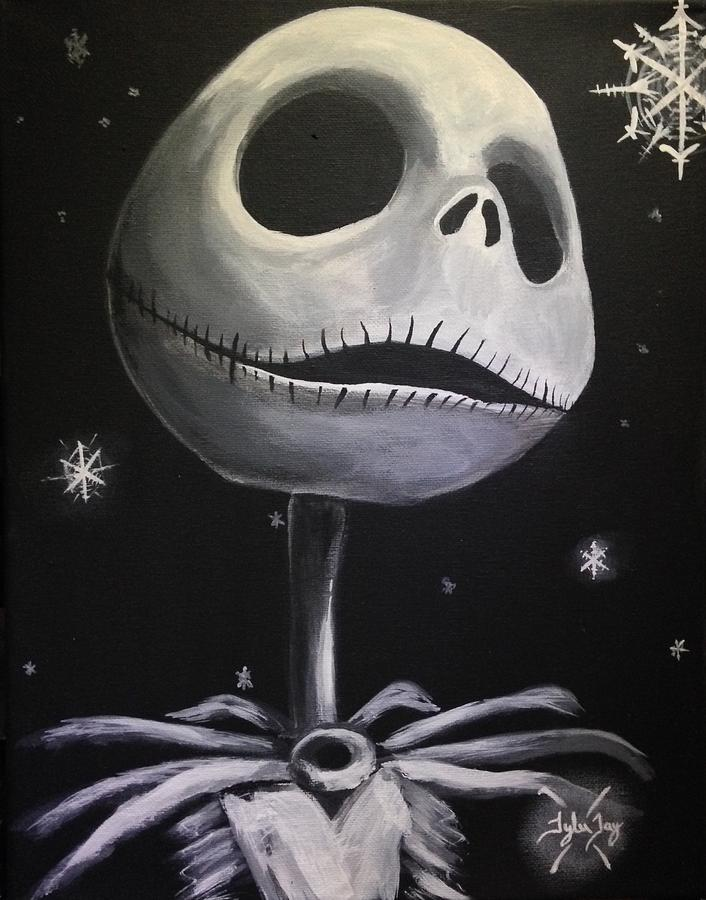Jack Skellington: (11, 4, 661, 900)
